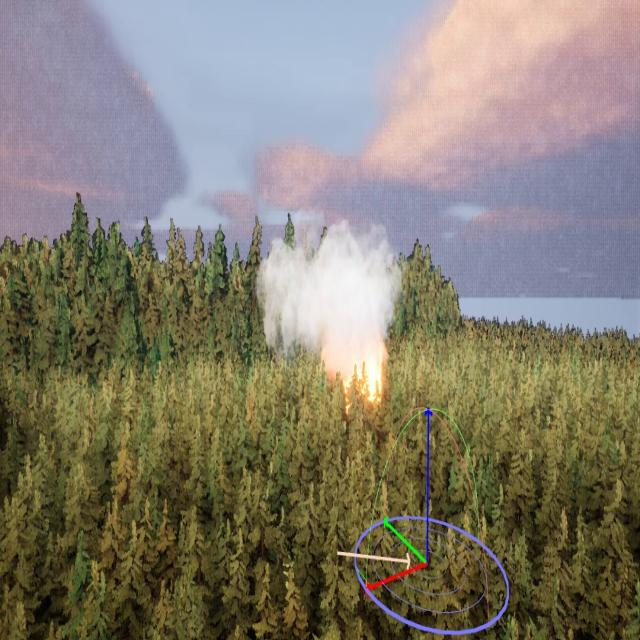fire: (335, 349, 387, 416)
smoke: (260, 219, 398, 361)
